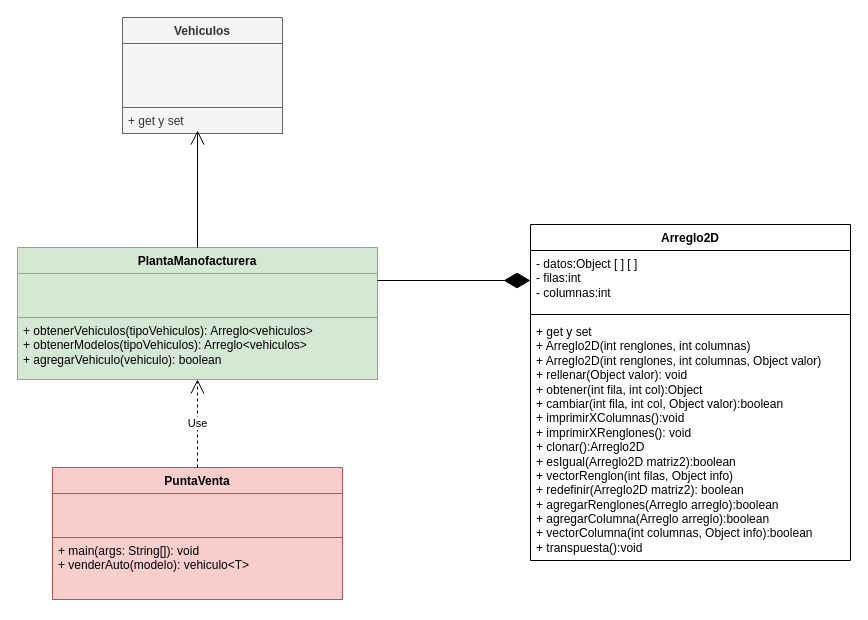
The diagram is 868 pixels wide and 620 high, and some of its shapes have lost their labels. The shapes that lost their labels are listed below. From the top down, each one's centre as x and y in pixels, then its label:
(202,75): - modelo: String - marca: String - anio: Date - capacidad: int
(197,295): - ubicasion: String - modeloProcesados: Arreglo2D<Vehiculos>
(197,515): - vehiculosDisponiebles: Arreglo2D<vehiculos> - ubicasion: String
